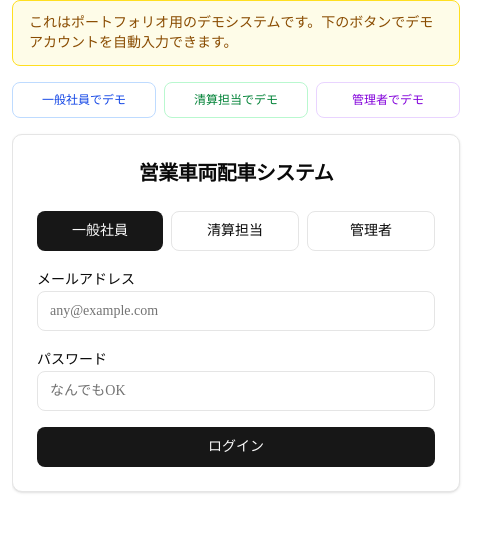
Scenario: LoginForm › メールを空にして送信するとバリデーションエラーが表示される
Click the button "ログイン" at (236,447), box [37,427,435,467]
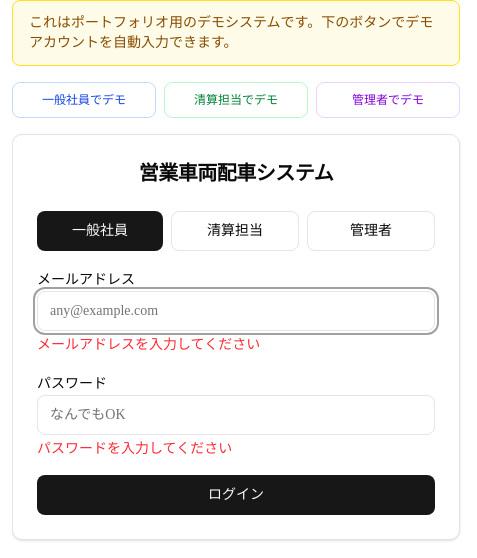
Check: the text "メールアドレスを入力してください" is shown, box [37,337,260,352]
